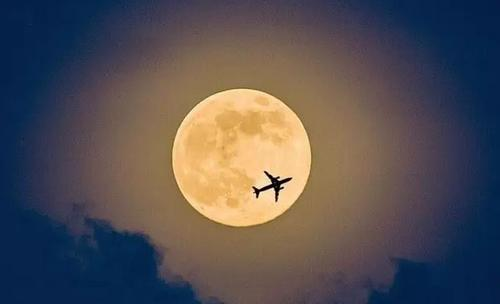moon: (171, 87, 311, 227)
